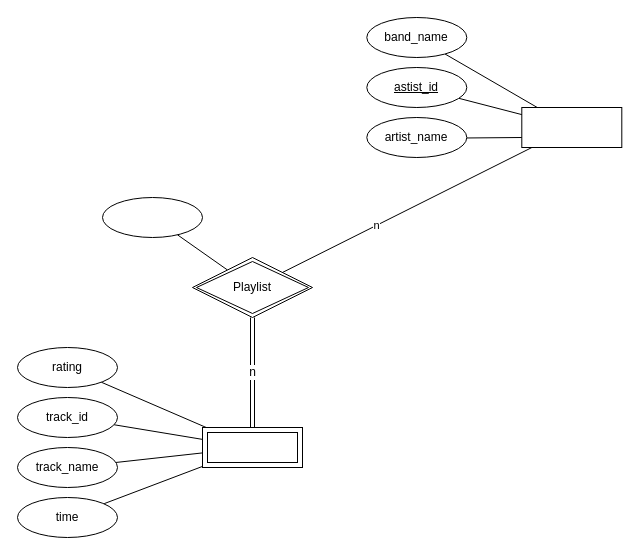
The diagram is 640 pixels wide and 555 high, and some of its shapes have lost their labels. The centre of each missing label's shape, as x and y in pixels:
"Arttist" belongs at point (571, 127).
"playlist_name" belongs at point (152, 217).
"Track" belongs at point (252, 447).
